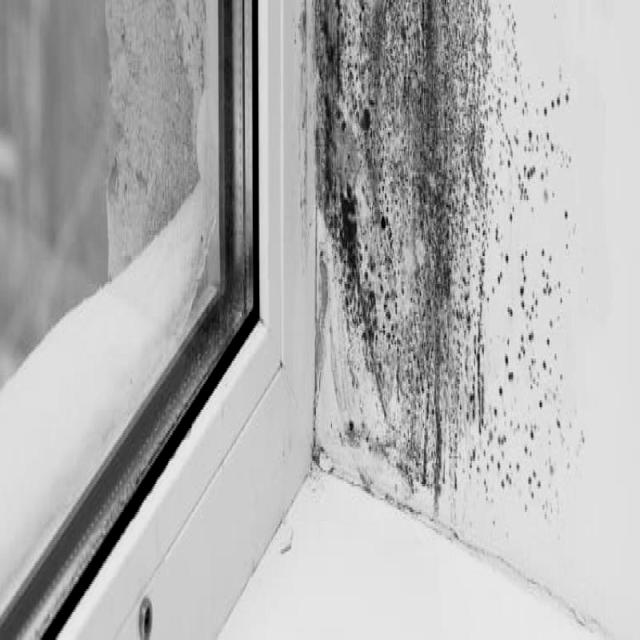stain marks: (285, 0, 591, 535)
